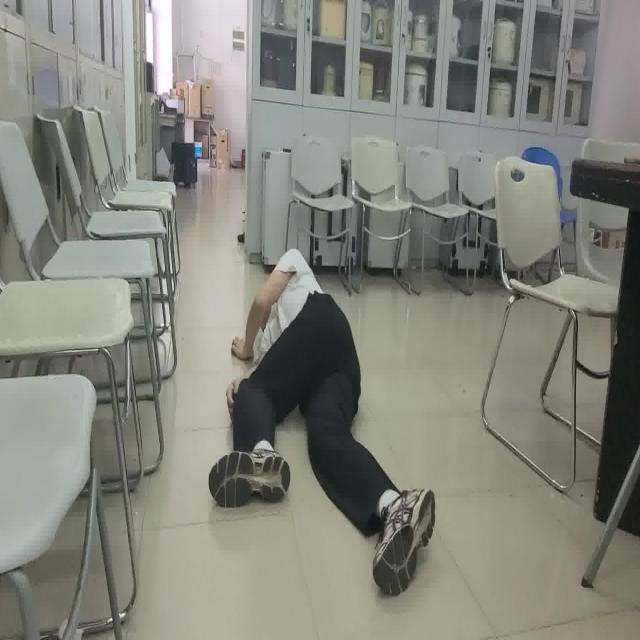Fall-Detected: (207, 249, 436, 597)
